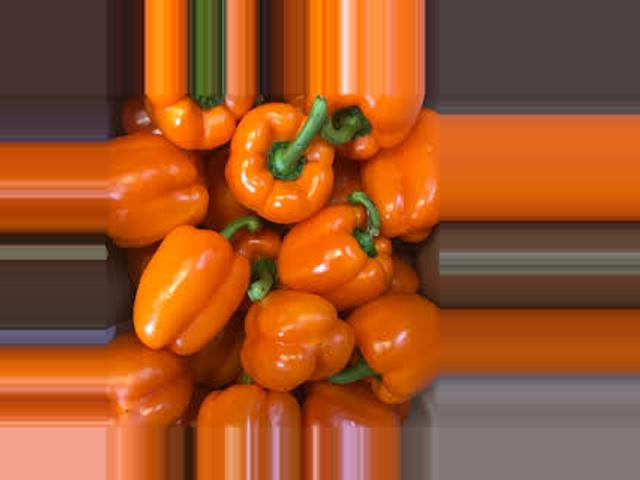bell_pepper: (278, 356, 407, 429)
